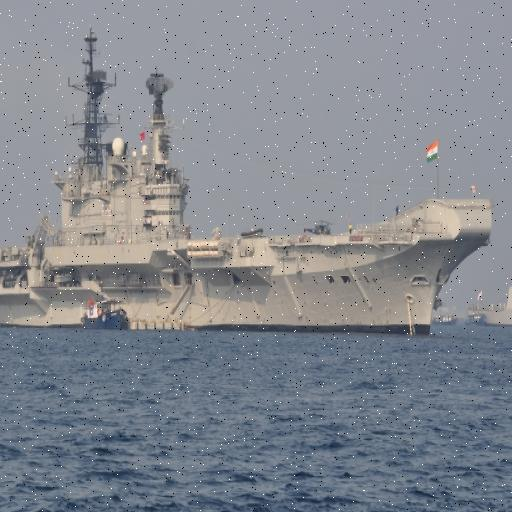Portanaves: (1, 26, 495, 341)
